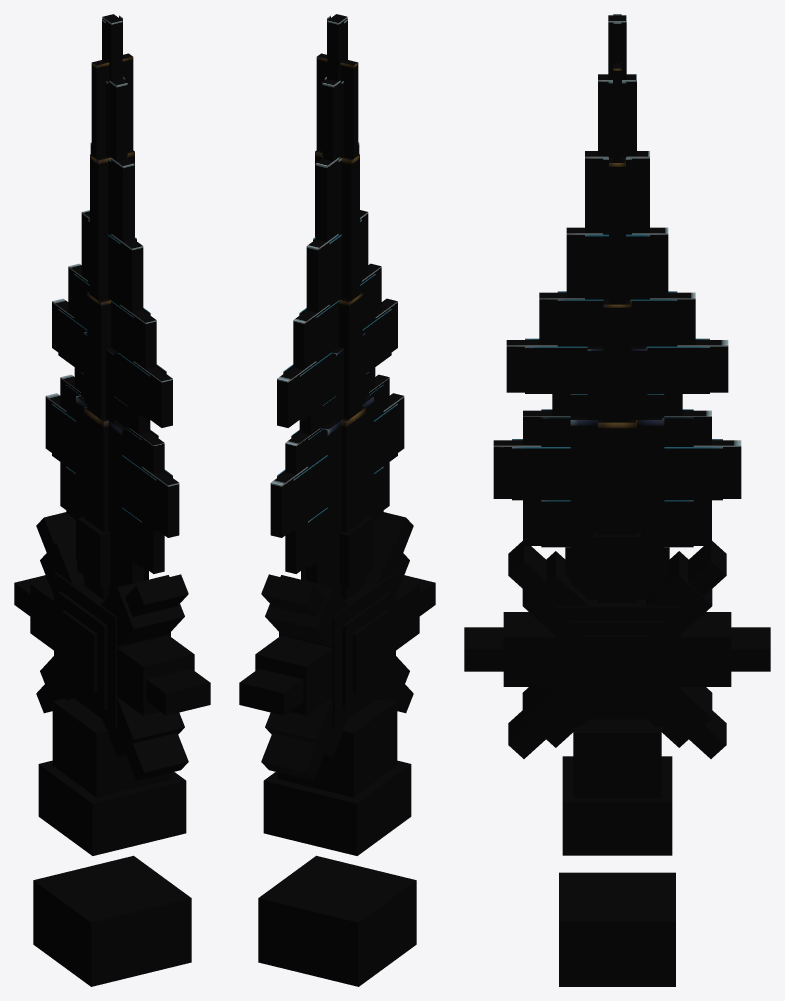
The model's file is workpiece_lingxiao_spear_ground.obj.
3 renders of one model, left to right at view 1: azimuth 30°, elevation 25°; view 2: azimuth 150°, elevation 25°; view 3: azimuth 270°, elevation 25°, orthographic.
Visible parts, largest first — view 1: geometry; view 2: geometry; view 3: geometry.
Part boxes in pixels (<box>): geometry: <box>14,14,210,986</box>; geometry: <box>239,14,435,986</box>; geometry: <box>464,14,770,986</box>.
Size of the model in its own units: 0.1125 by 1 by 0.2938.
